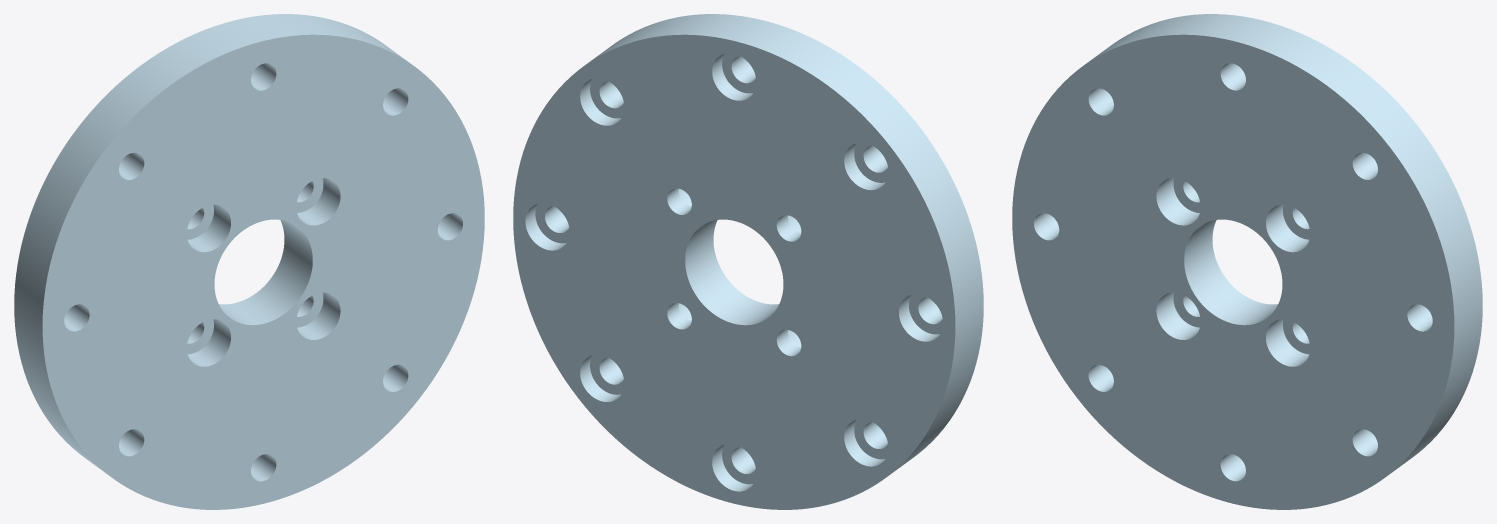
The model's file is adapter_robot.gltf.
3 views of the same model, side by side, from view 1: azimuth 30°, elevation 25°; view 2: azimuth 150°, elevation 25°; view 3: azimuth 330°, elevation 25° (orthographic).
Visible parts, largest first — view 1: mesh36, mesh4, mesh5, mesh15, mesh17, mesh13, mesh11, mesh20, mesh26, mesh0, mesh32, mesh37 (+3 smaller); view 2: mesh3, mesh4, mesh5, mesh27, mesh30, mesh18, mesh24, mesh38, mesh21, mesh2, mesh33, mesh34 (+7 smaller); view 3: mesh36, mesh4, mesh5, mesh17, mesh15, mesh11, mesh13, mesh20, mesh37, mesh23, mesh26, mesh32 (+3 smaller).
Part boxes in pixels (<box>): mesh36: <box>42,34,484,509</box>; mesh4: <box>14,14,409,473</box>; mesh5: <box>219,220,312,325</box>; mesh15: <box>297,292,340,339</box>; mesh17: <box>187,319,230,366</box>; mesh13: <box>297,178,340,225</box>; mesh11: <box>188,204,230,252</box>; mesh20: <box>251,63,276,90</box>; mesh26: <box>64,304,89,331</box>; mesh0: <box>383,88,408,115</box>; mesh32: <box>251,454,276,481</box>; mesh37: <box>437,213,462,240</box>; mesh3: <box>513,34,955,509</box>; mesh4: <box>588,14,983,473</box>; mesh5: <box>685,220,778,325</box>; mesh27: <box>844,419,885,466</box>; mesh30: <box>712,444,752,491</box>; mesh18: <box>712,53,753,100</box>; mesh24: <box>899,295,939,341</box>; mesh38: <box>525,203,566,250</box>; mesh21: <box>844,143,885,190</box>; mesh2: <box>580,79,621,125</box>; mesh33: <box>580,355,621,401</box>; mesh34: <box>590,354,624,394</box>; mesh36: <box>1012,34,1454,509</box>; mesh4: <box>1087,14,1482,473</box>; mesh5: <box>1184,220,1277,325</box>; mesh17: <box>1156,292,1199,339</box>; mesh15: <box>1266,319,1309,366</box>; mesh11: <box>1156,178,1199,225</box>; mesh13: <box>1266,204,1308,252</box>; mesh20: <box>1220,63,1245,90</box>; mesh37: <box>1407,304,1432,331</box>; mesh23: <box>1088,88,1113,115</box>; mesh26: <box>1034,213,1059,240</box>; mesh32: <box>1220,454,1245,481</box>.
Size of the model in its own units: 0.09 by 0.09 by 0.01.
